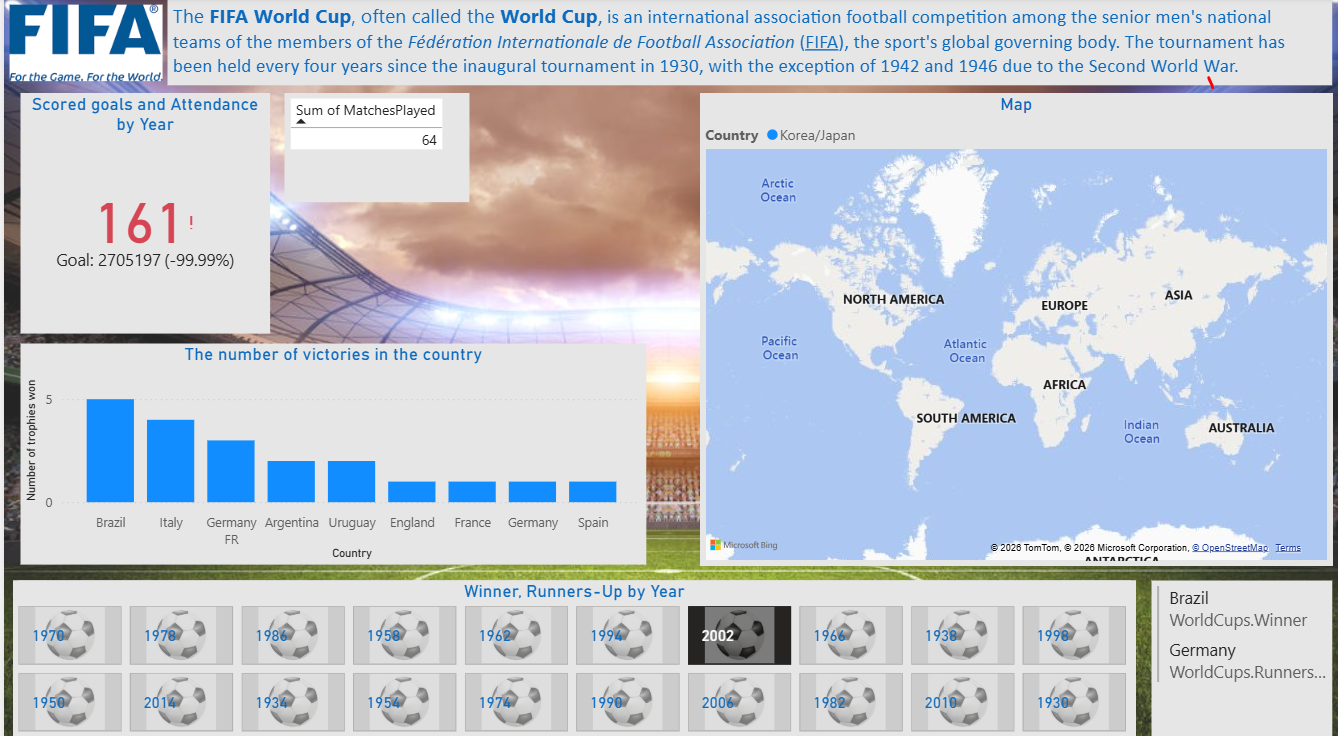

Layout of this report page (visuals, bound fields, positions):
{"tool":"powerbi","page":{"name":"Aruanne lk 1","canvas":[1280,720],"ordinal":1},"visuals":[{"type":"advancedSlicerVisual","title":"Winner, Runners-Up by Year","fields":{"Values":["World Cup - Tableau format.Year"]},"box":[9.1,560,1076.4,150],"z":0},{"type":"textbox","box":[157.3,0,1116.4,84.5],"z":1000},{"type":"multiRowCard","fields":{"Values":["World Cup - Tableau format.WorldCups.Winner","World Cup - Tableau format.WorldCups.Runners-Up"]},"box":[1100,560,173.6,150],"z":2000},{"type":"clusteredColumnChart","title":"The number of victories in the country","fields":{"Category":["WorldCups.Winner"],"Y":["CountNonNull(WorldCups.Country)"]},"box":[16.4,332.7,600,211.8],"z":3000},{"type":"map","title":"Map","fields":{"Category":["World Cup - Tableau format.Country"],"Series":["WorldCups.Country"]},"box":[667.3,91.8,606.4,452.7],"z":4000},{"type":"kpi","title":"Scored goals and Attendance by Year","fields":{"Indicator":["Sum(WorldCups.GoalsScored)"],"Goal":["Sum(WorldCups.Attendance)"],"TrendLine":["WorldCups.Year"]},"box":[16.4,91.8,239.1,230.9],"z":5000},{"type":"image","box":[0,0,157.3,88.2],"z":6000},{"type":"tableEx","fields":{"Values":["Sum(WorldCups.MatchesPlayed)"]},"box":[269.1,91.8,177.3,104.5],"z":7000}]}

Visuals, with their boxes in screenshot pixels (x1, y1, x2, y2), scaled from the page's 1280x720 canvas onto the 1338x736 screenshot:
"Winner, Runners-Up by Year" advancedSlicerVisual: Rect(10, 572, 1135, 726)
textbox: Rect(164, 0, 1331, 86)
multiRowCard - World Cup - Tableau format.WorldCups.Winner x World Cup - Tableau format.WorldCups.Runners-Up: Rect(1150, 572, 1331, 726)
"The number of victories in the country" clusteredColumnChart: Rect(17, 340, 644, 557)
"Map" map: Rect(698, 94, 1331, 557)
"Scored goals and Attendance by Year" kpi: Rect(17, 94, 267, 330)
image: Rect(0, 0, 164, 90)
tableEx - Sum(WorldCups.MatchesPlayed): Rect(281, 94, 467, 201)
